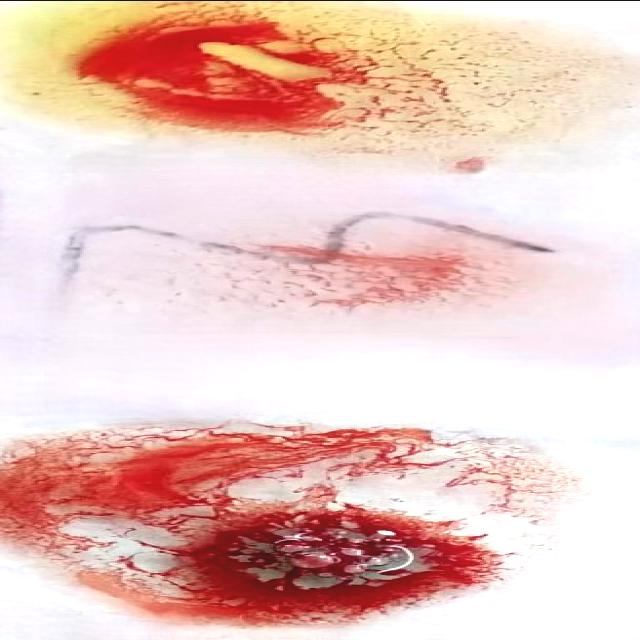A: (0, 419, 585, 621)
B: (5, 3, 622, 134)
D: (105, 226, 517, 314)
